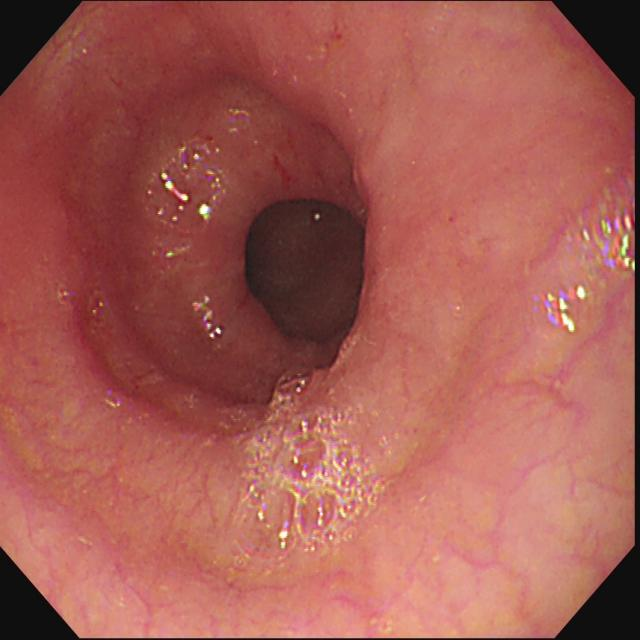E: (235, 191, 374, 354)
T: (235, 367, 386, 559), (192, 296, 224, 343), (88, 291, 109, 328), (57, 285, 75, 305)
U: (542, 284, 586, 335), (613, 216, 635, 274), (162, 174, 189, 205), (199, 204, 213, 221)
